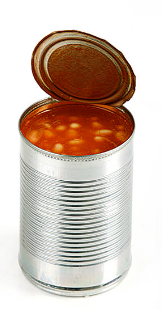Danificado: (10, 30, 150, 162)
